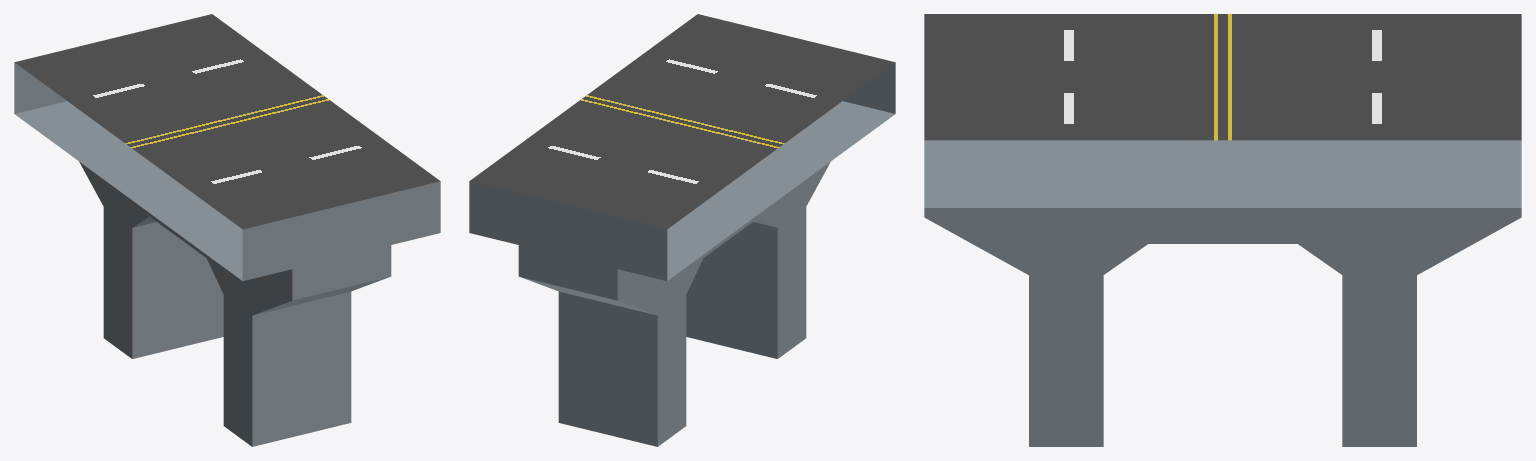
The model's file is Highway_Support.fbx.
3 views of the same model, side by side, from view 1: azimuth 30°, elevation 25°; view 2: azimuth 150°, elevation 25°; view 3: azimuth 270°, elevation 25° (orthographic). The views are drawn at different scales.
Visible parts, largest first — view 1: Highway_Support; view 2: Highway_Support; view 3: Highway_Support.
Part boxes in pixels (x1=…): Highway_Support: x1=14, y1=14, x2=440, y2=446; Highway_Support: x1=469, y1=14, x2=895, y2=446; Highway_Support: x1=924, y1=14, x2=1521, y2=446.
Size of the model in its own units: 400 by 500 by 800.
